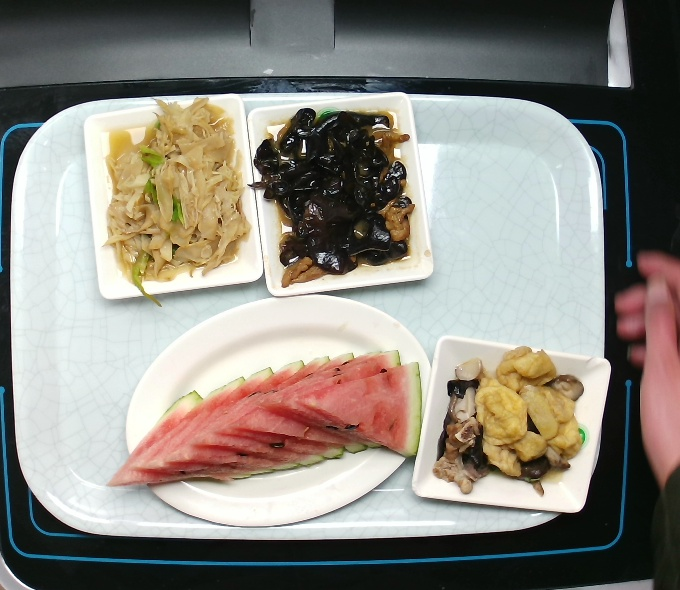wcq-LuSun: (98, 89, 254, 298)
wcq-MuErChaoRou: (253, 99, 419, 291)
wcq-XiGua: (109, 335, 435, 503)
wcq-YouPaoPaiGu: (420, 324, 596, 506)
